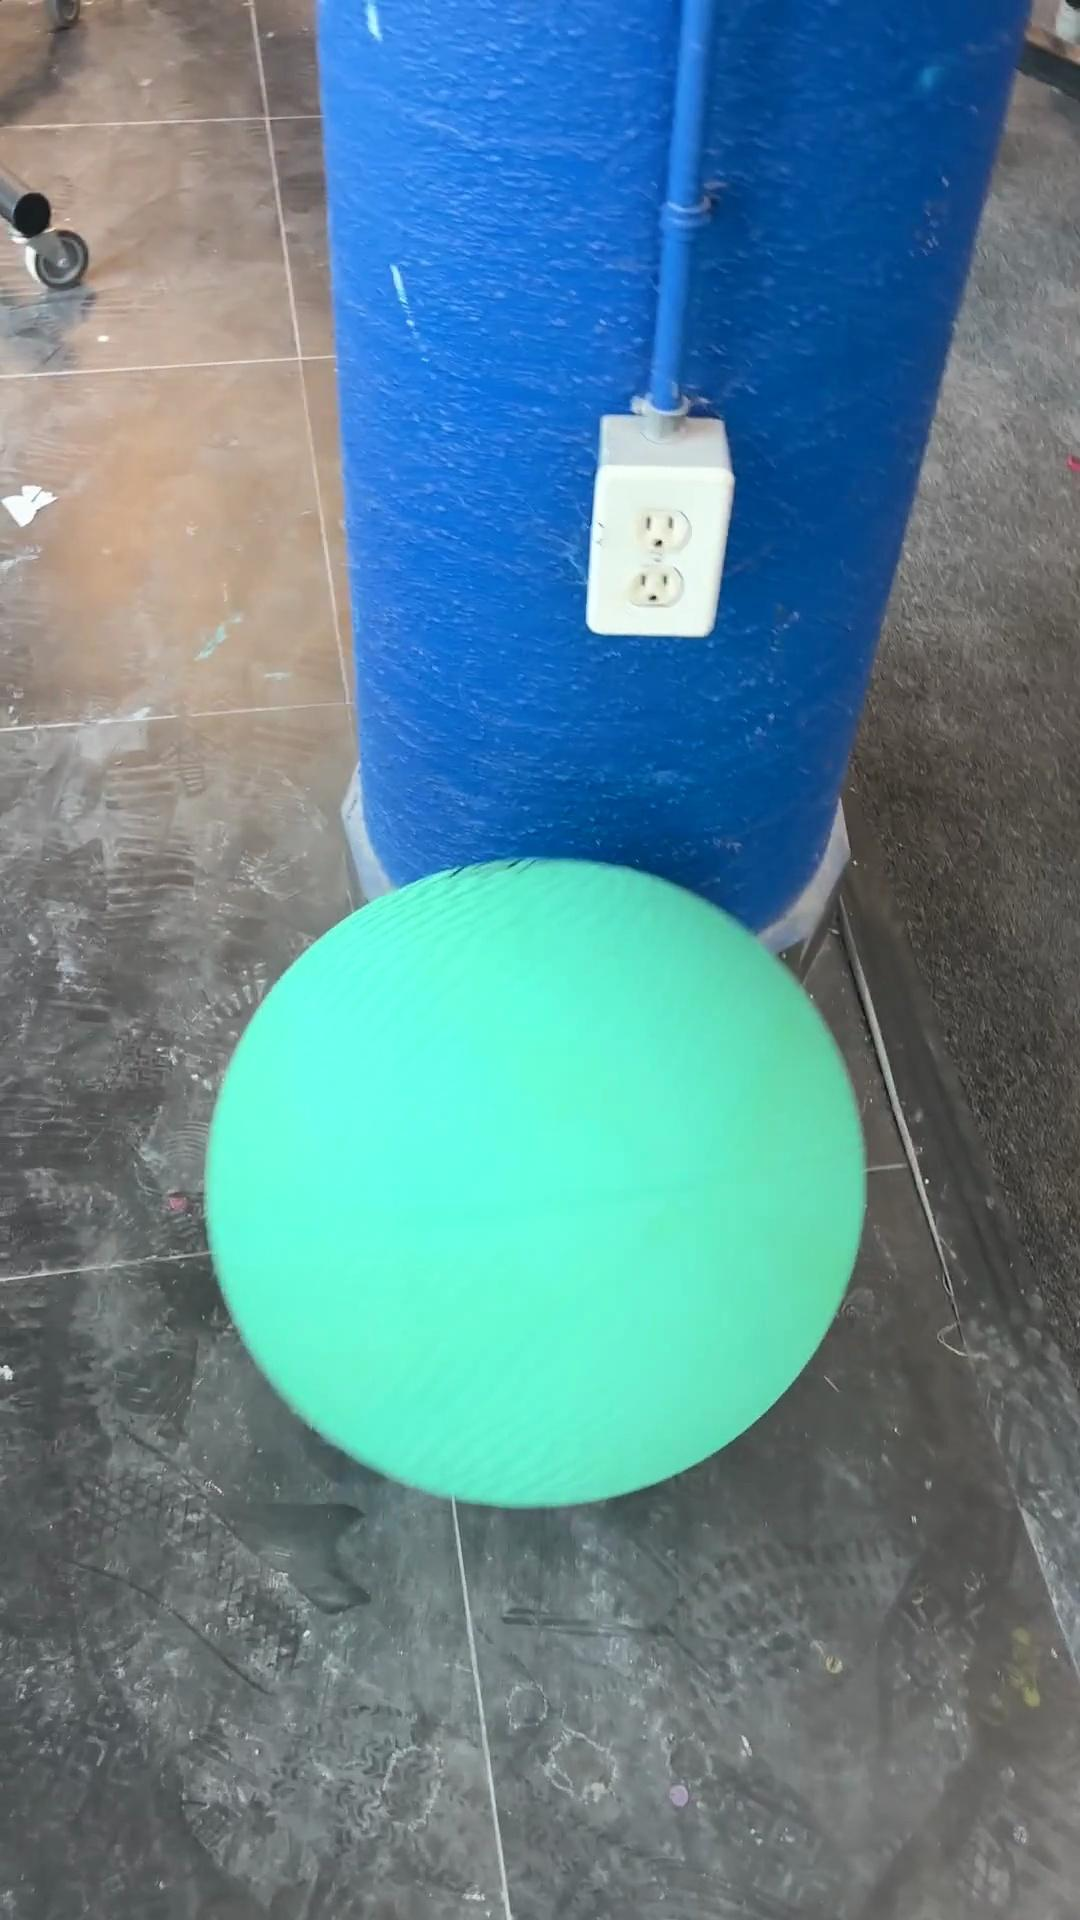ALGAE: (200, 852, 869, 1511)
